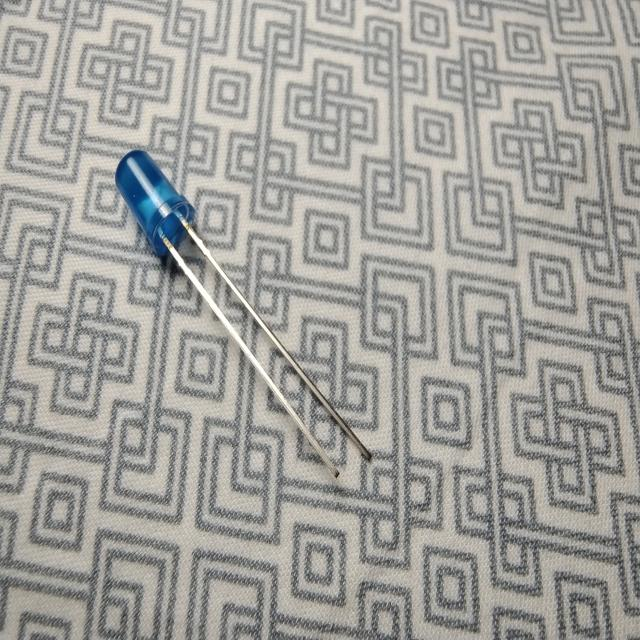blue_led: (114, 147, 373, 480), (114, 147, 197, 262)
